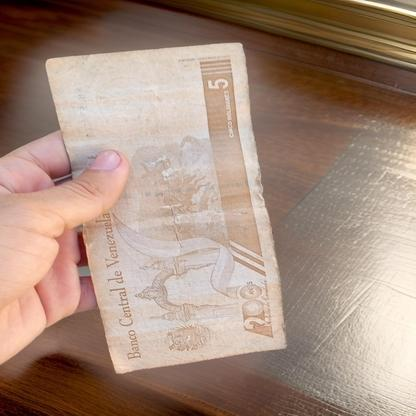five-back-vef: (45, 43, 287, 374)
